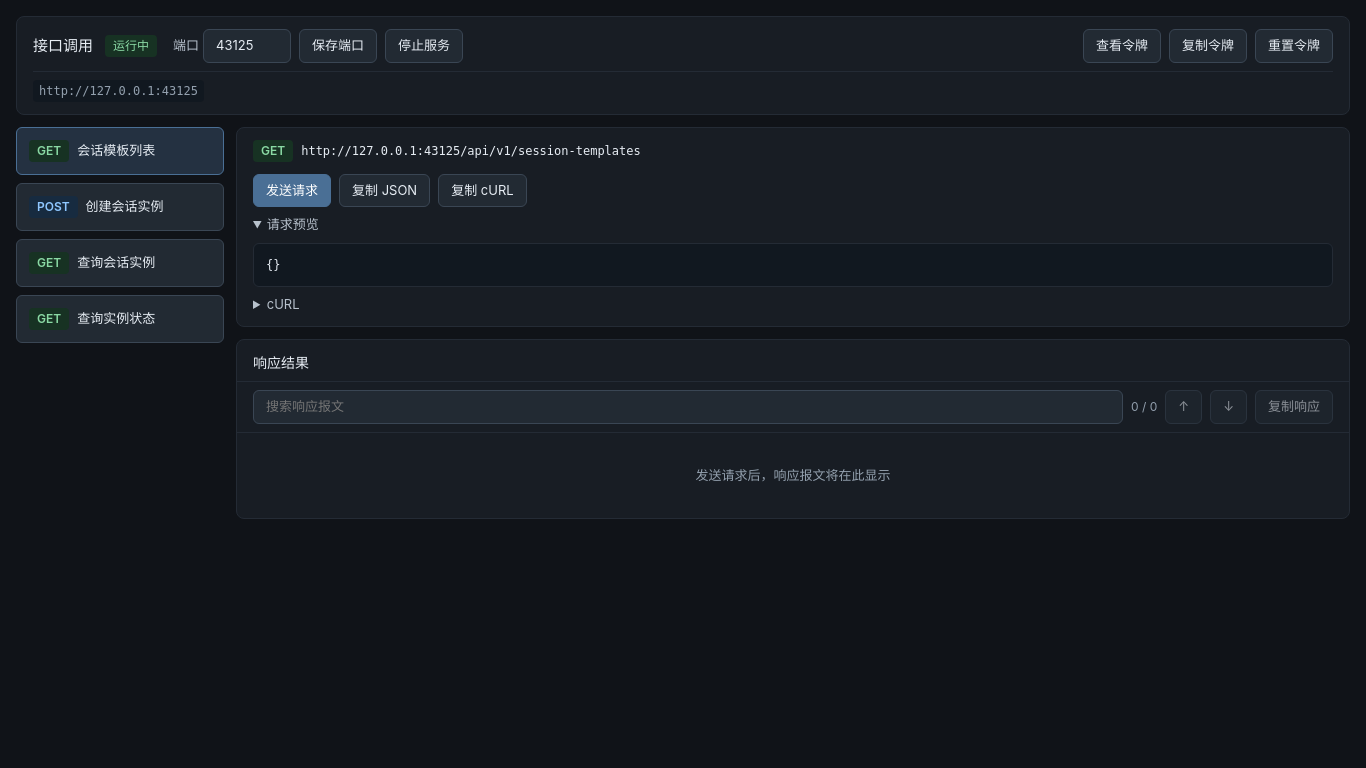
prevents repeated submissions and displays request failures
The width and height of the screenshot is (1366, 768).
Click the button "发送请求": (292, 190) [253, 174, 331, 207]
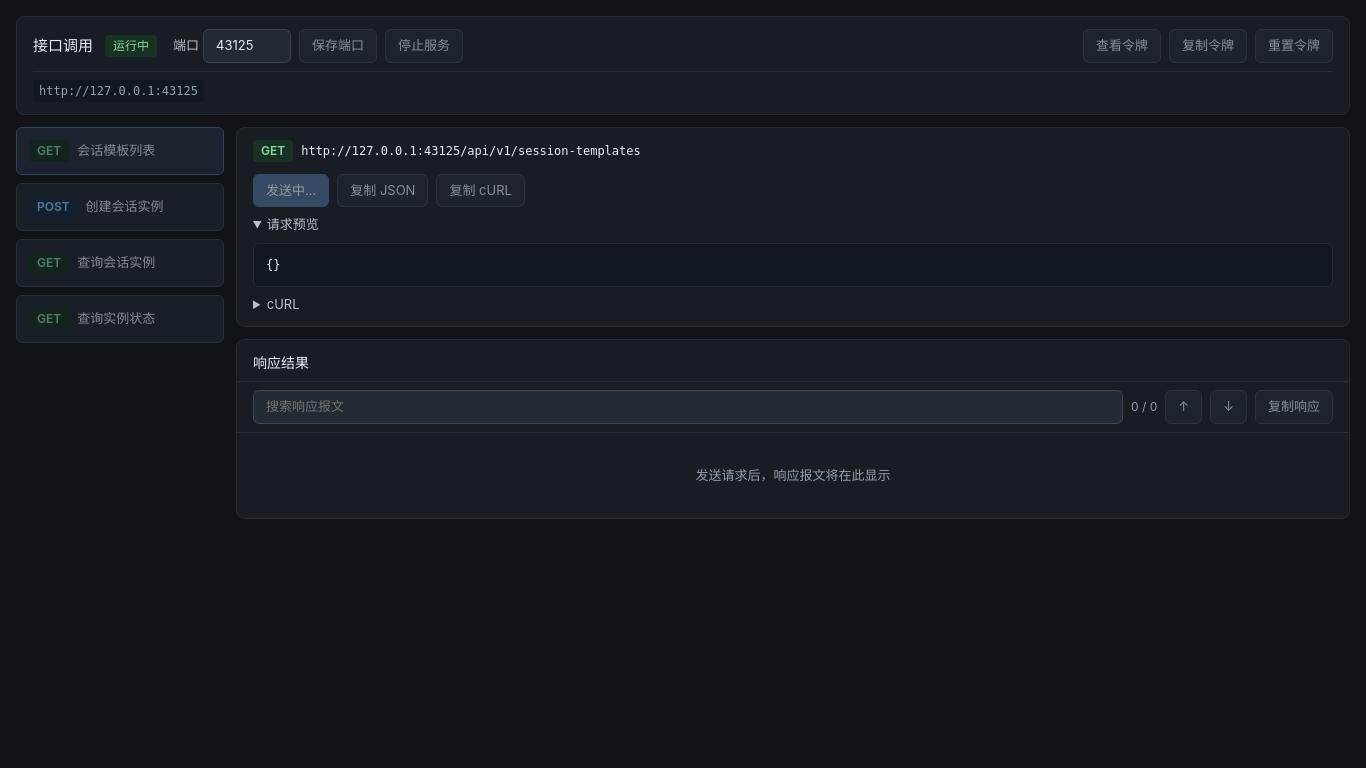
Click the button named "发送请求": (291, 190) [253, 174, 329, 207]
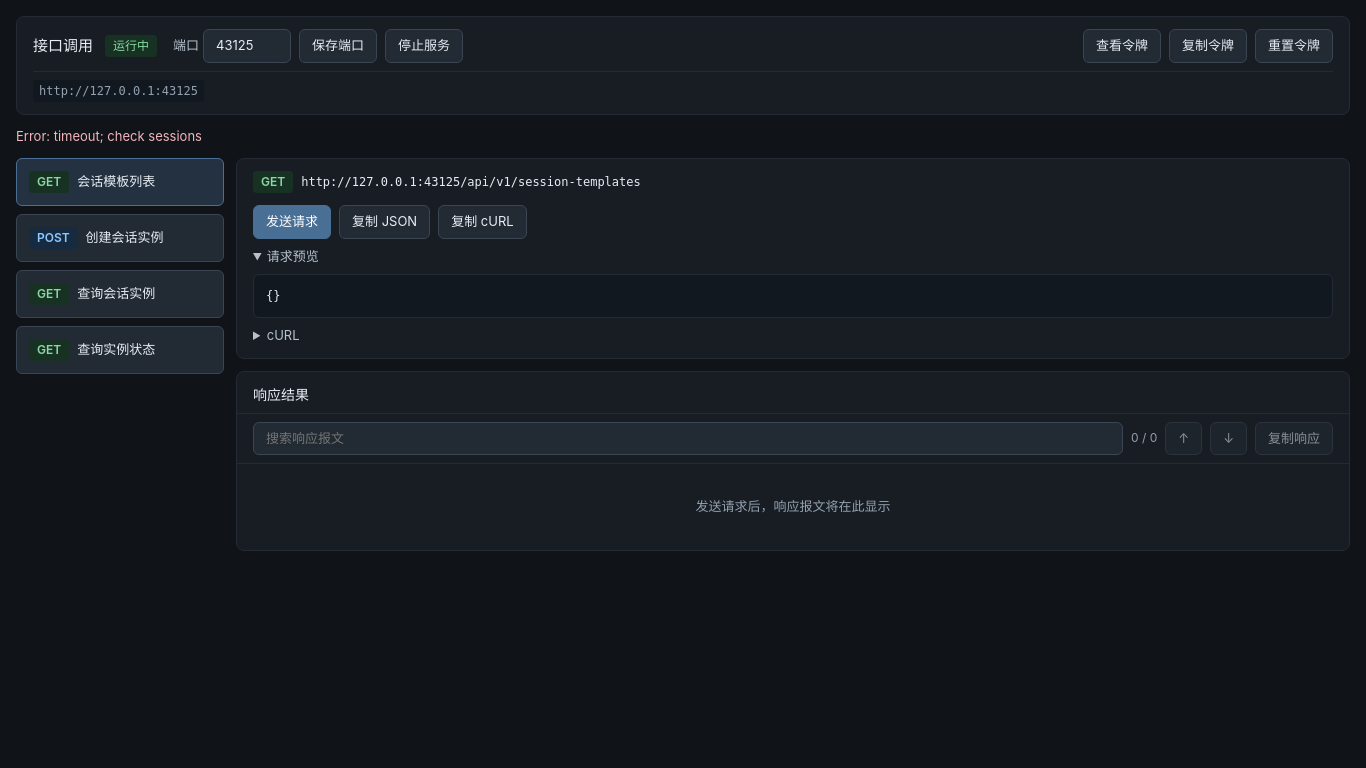
Expected: the message "Error: timeout; check sessions" is shown, [16, 128, 202, 144]
